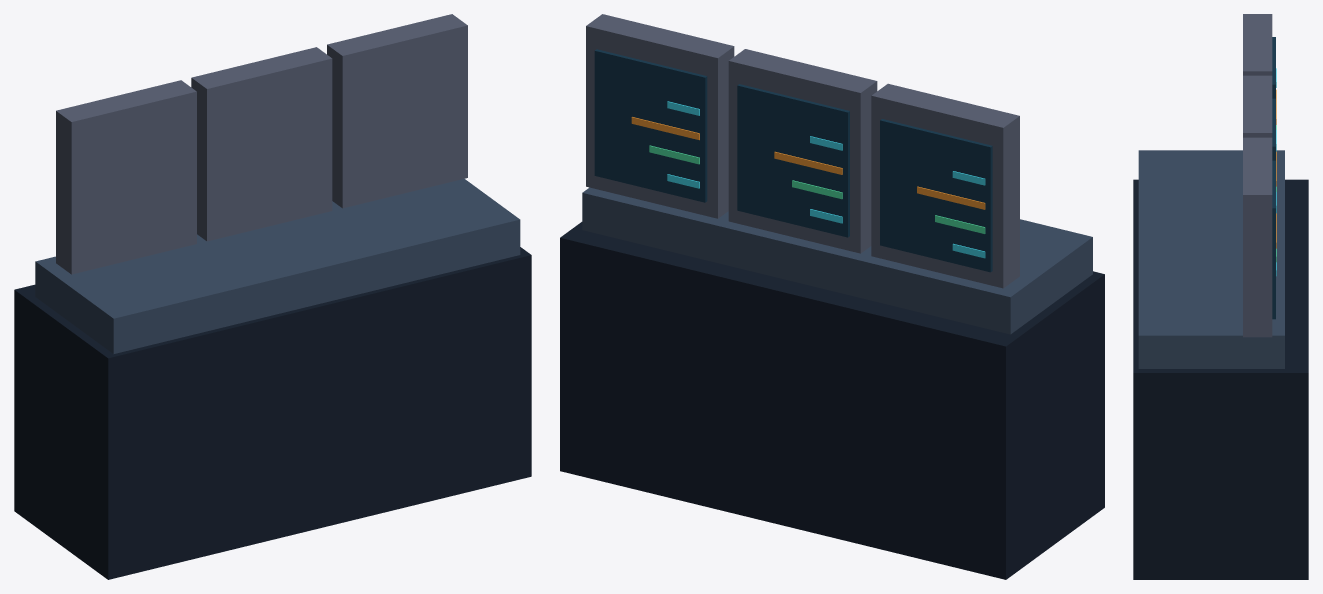
Rendered from env_console_bank.obj.
3 renders of one model, left to right at view 1: azimuth 30°, elevation 25°; view 2: azimuth 150°, elevation 25°; view 3: azimuth 270°, elevation 25°, orthographic. The views are drawn at different scales.
Bounding box in the file's own units: 2.5 × 2.31 × 0.96.
